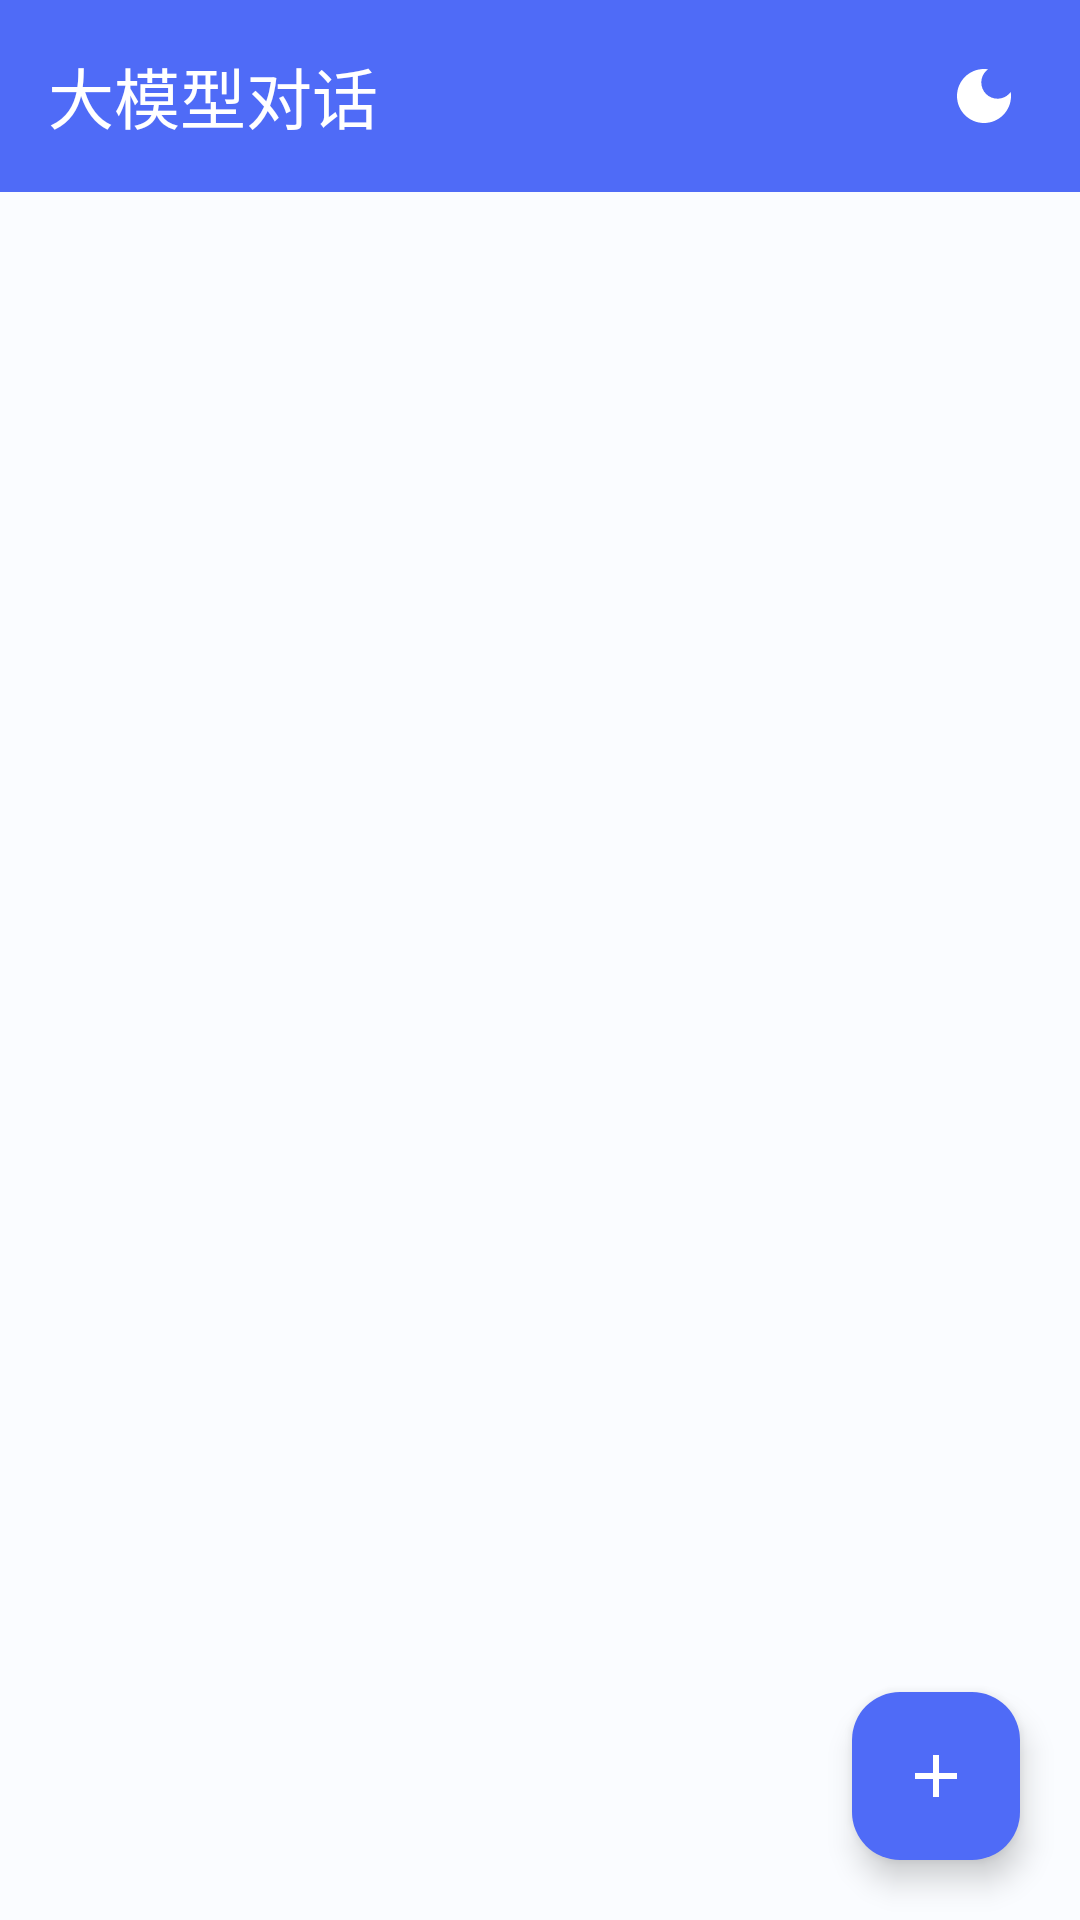

Icon click points for this 1080*1920 phone screenshot, format (x=x, y=y):
Create New Chat: (x=936, y=1776)
切换夜间模式: (x=984, y=96)
